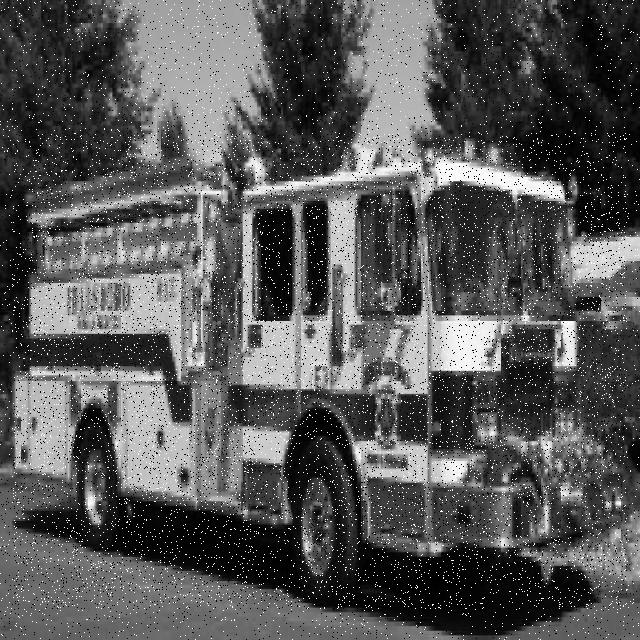Fire Truck: (13, 133, 627, 609)
